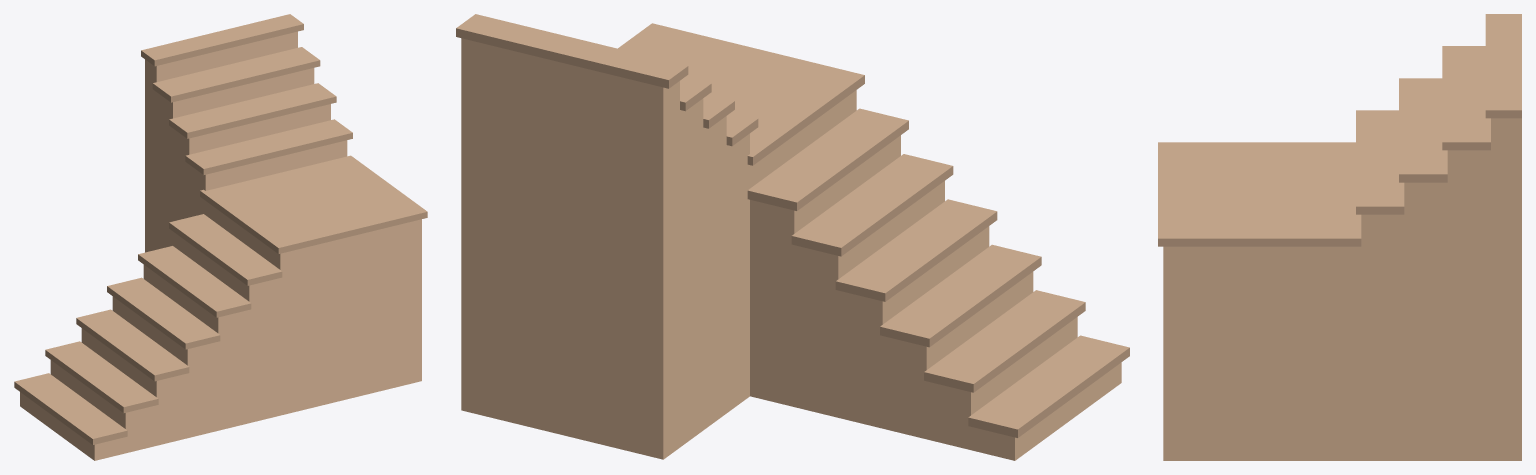
File: stairsCorner-col.glb
The picture shows the model from 3 angles, left to right: view 1: azimuth 30°, elevation 25°; view 2: azimuth 150°, elevation 25°; view 3: azimuth 270°, elevation 25°; orthographic projection. The views are drawn at different scales.
Parts seen in each view (by area): view 1: stairsCorner-col; view 2: stairsCorner-col; view 3: stairsCorner-col.
Part boxes in pixels (x1=…): stairsCorner-col: x1=14, y1=14, x2=427, y2=460; stairsCorner-col: x1=456, y1=14, x2=1129, y2=460; stairsCorner-col: x1=1158, y1=14, x2=1521, y2=460.
Size of the model in its own units: 1.97 by 1.5 by 1.4.
